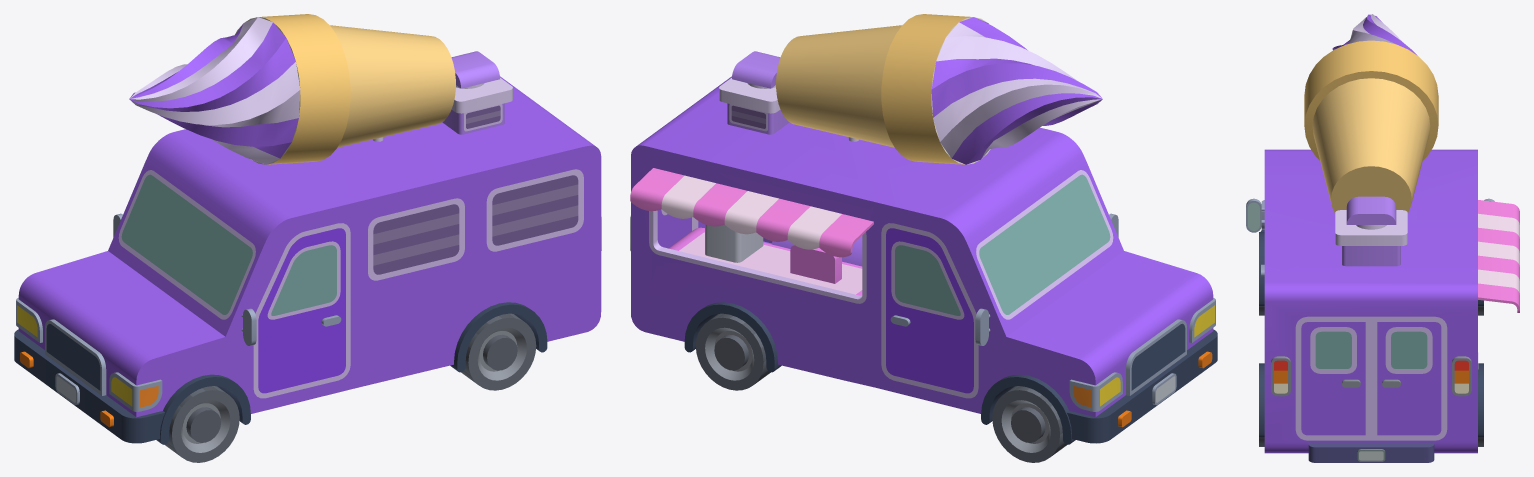
Rendered from Foodtruck Icecream.fbx.
3 views of the same model, side by side, from view 1: azimuth 30°, elevation 25°; view 2: azimuth 150°, elevation 25°; view 3: azimuth 270°, elevation 25° (orthographic). The views are drawn at different scales.
Parts seen in each view (by area): view 1: Foodtruck Icecream, Foodtruck Icecream Wheel.001, Foodtruck Icecream Wheel; view 2: Foodtruck Icecream, Foodtruck Icecream Wheel.001, Foodtruck Icecream Wheel, Table, Foodtruck Icecream Machine, Icecream Stand, Foodtruck Icecream Door.001; view 3: Foodtruck Icecream, Foodtruck Icecream Door, Foodtruck Icecream Door.001.
Part boxes in pixels (box(x1,y1,x2,y2)): Foodtruck Icecream: box(14, 14, 601, 444); Foodtruck Icecream Wheel.001: box(461, 313, 536, 390); Foodtruck Icecream Wheel: box(164, 386, 239, 462); Foodtruck Icecream: box(630, 14, 1217, 444); Foodtruck Icecream Wheel.001: box(695, 313, 770, 390); Foodtruck Icecream Wheel: box(992, 386, 1067, 462); Table: box(668, 227, 862, 295); Foodtruck Icecream Machine: box(705, 224, 763, 262); Icecream Stand: box(790, 245, 841, 283); Foodtruck Icecream Door.001: box(657, 209, 694, 248); Foodtruck Icecream: box(1246, 14, 1519, 462); Foodtruck Icecream Door: box(1295, 316, 1371, 440); Foodtruck Icecream Door.001: box(1371, 316, 1447, 440).
Size of the model in its own units: 13.35 by 9.45 by 7.13.
